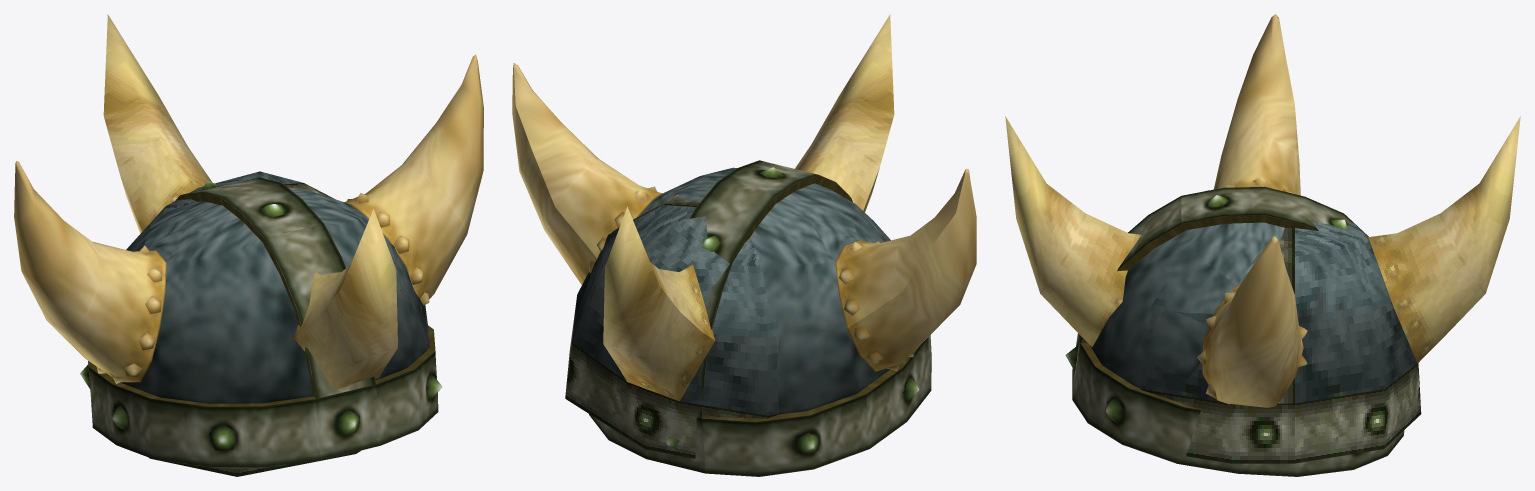
The model's file is viking.glb.
3 renders of one model, left to right at view 1: azimuth 30°, elevation 25°; view 2: azimuth 150°, elevation 25°; view 3: azimuth 270°, elevation 25°, orthographic. The views are drawn at different scales.
Parts seen in each view (by area): view 1: _0_0_node.001, _0_0_node; view 2: _0_0_node.001, _0_0_node; view 3: _0_0_node, _0_0_node.001.
Part boxes in pixels (x1=…): _0_0_node.001: x1=14, y1=54, x2=483, y2=467; _0_0_node: x1=103, y1=14, x2=429, y2=476; _0_0_node.001: x1=512, y1=63, x2=976, y2=476; _0_0_node: x1=565, y1=14, x2=894, y2=458; _0_0_node: x1=1005, y1=116, x2=1520, y2=463; _0_0_node.001: x1=1065, y1=14, x2=1404, y2=476.
Bounding box in the file's own units: 2.45 × 1.56 × 2.43.
2 materials, 2 textured.
